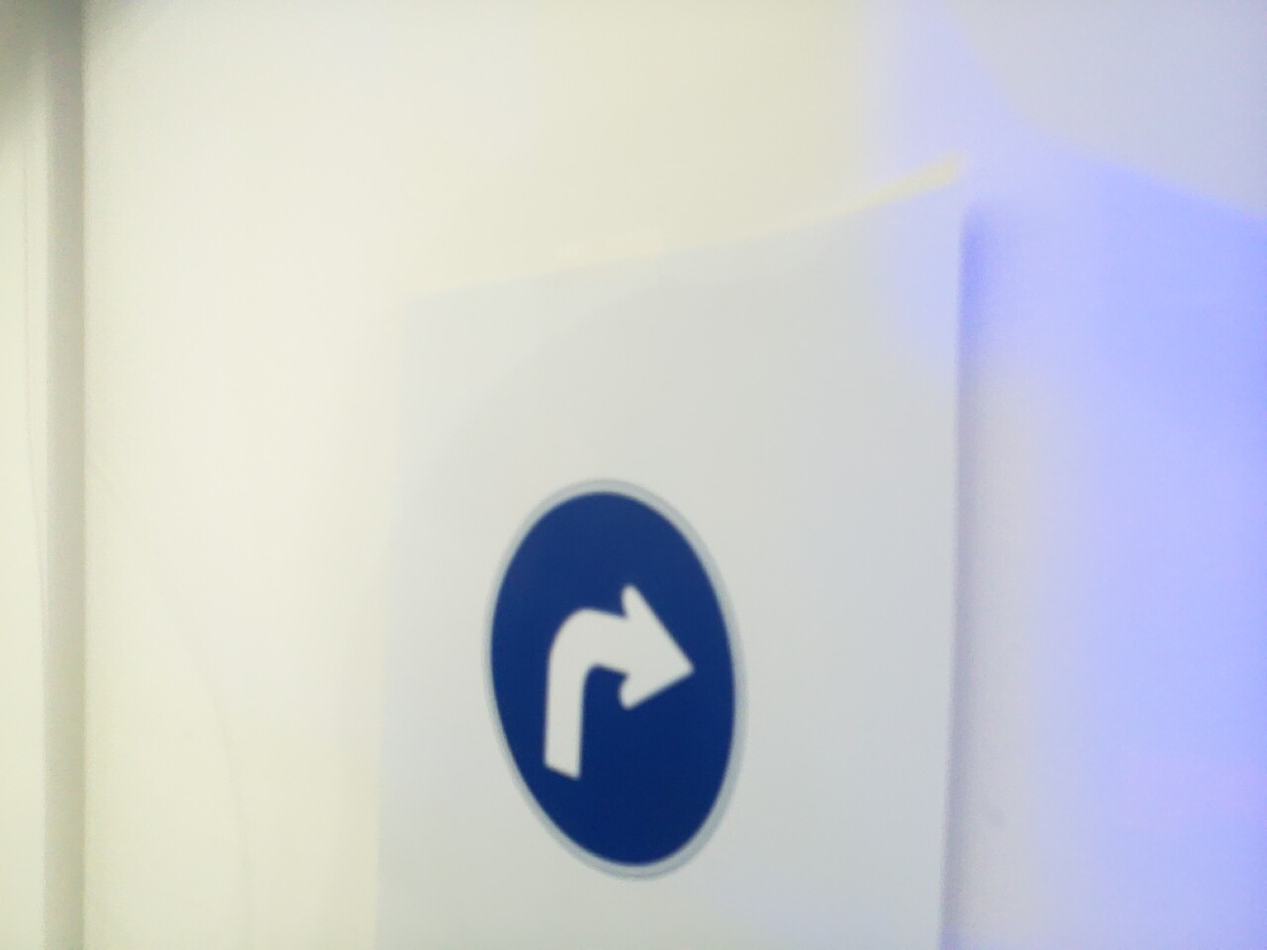right_turn: (481, 480, 744, 878)
